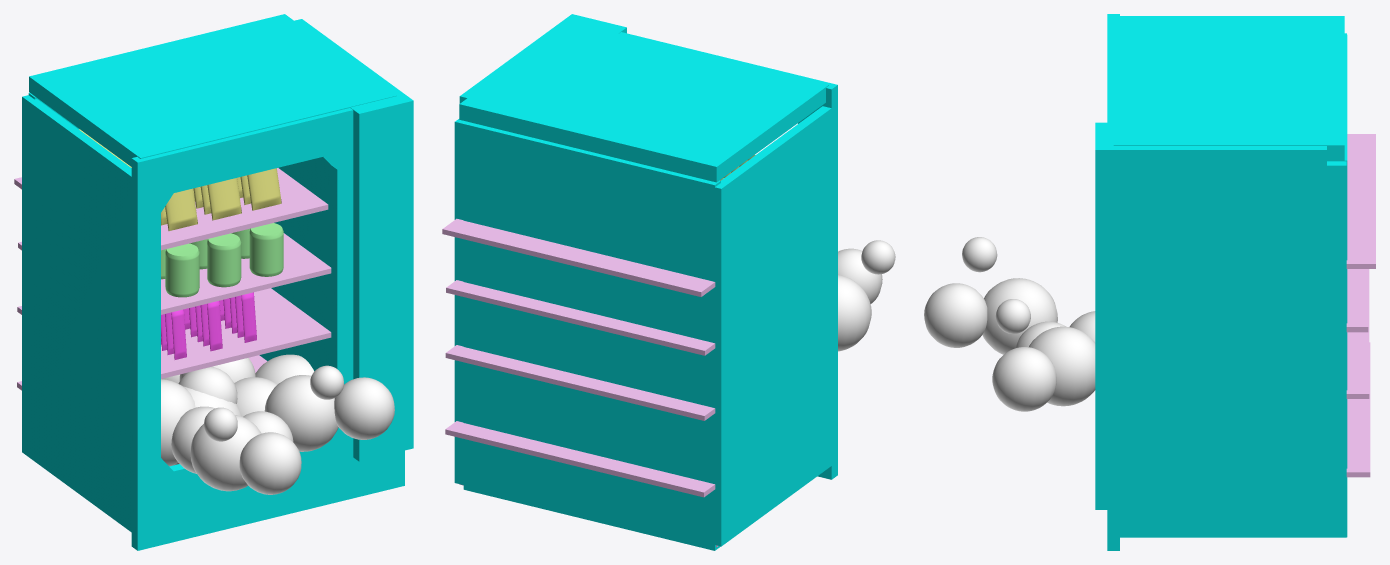
The model's file is vendingmachine.fbx.
The picture shows the model from 3 angles, left to right: view 1: azimuth 30°, elevation 25°; view 2: azimuth 150°, elevation 25°; view 3: azimuth 270°, elevation 25°; orthographic projection. The views are drawn at different scales.
Parts seen in each view (by area): view 1: pSphere9; view 2: pSphere9; view 3: pSphere9.
Boxes of the visible parts, x1=… form: pSphere9: x1=14, y1=14, x2=413, y2=550; pSphere9: x1=442, y1=14, x2=895, y2=550; pSphere9: x1=924, y1=14, x2=1375, y2=550.
Size of the model in its own units: 18.28 by 25.16 by 25.58.
